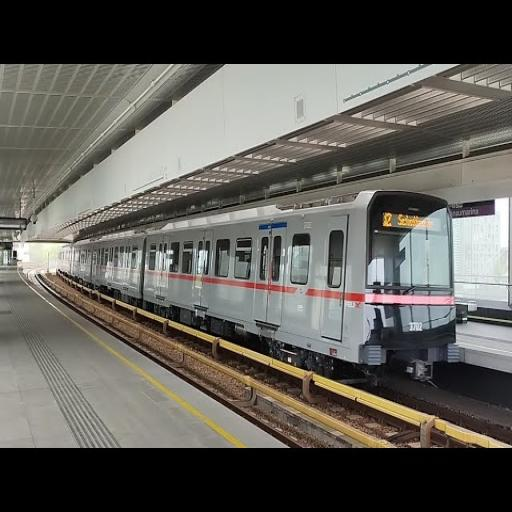X-Wagen: (58, 188, 463, 364)
